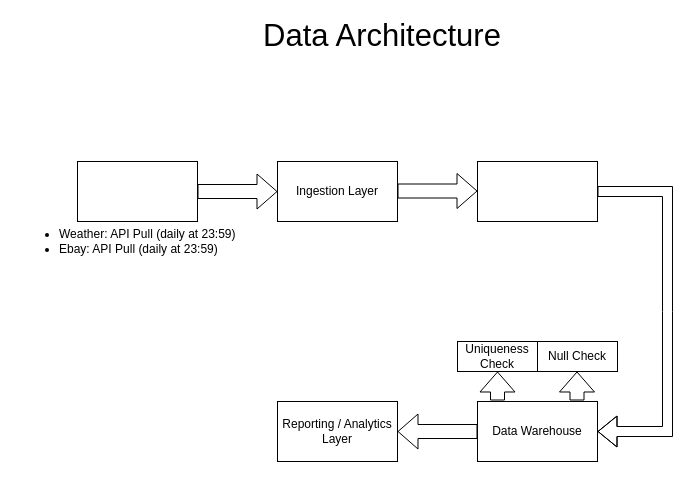
This 690x479 diagram has some shape labels left out. The shapes that lost their labels are listed below. From the top down, each one's centre as x and y in pixels, then its label:
pixel 137 191: Data Sources
pixel 537 191: Raw Data Storage
